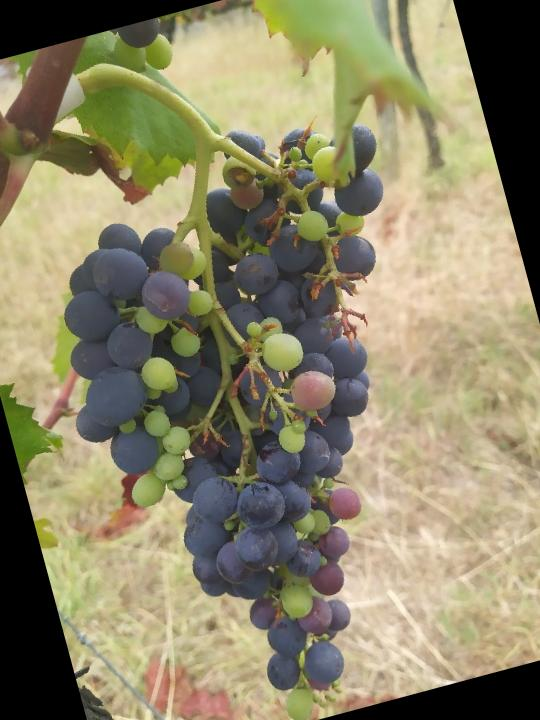grape: (9, 90, 521, 720)
